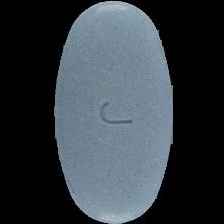63187-574: (0, 0, 224, 224)
